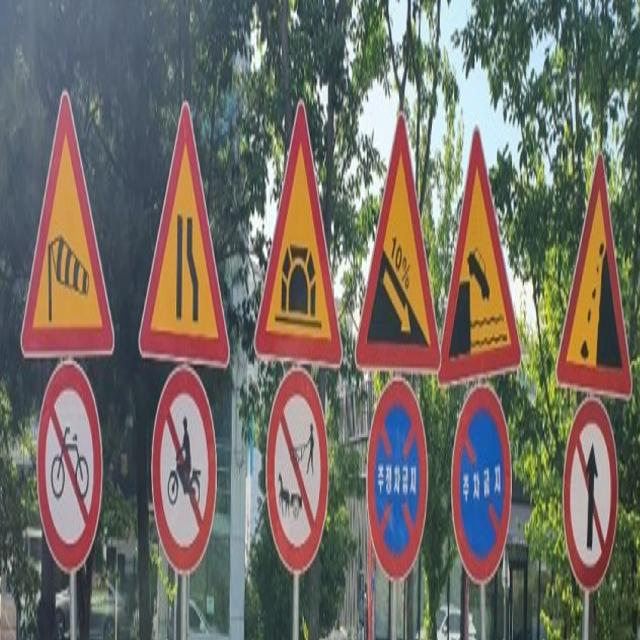Downward_slope: (354, 104, 442, 386)
Falling_rocks: (550, 126, 636, 405)
Right_lane_is_merged: (134, 94, 237, 385)
Riverside_drive: (436, 120, 531, 391)
Tunnel: (245, 89, 346, 382)
Wind: (13, 71, 121, 372)
regulatory_No_bicycles_allowed: (32, 350, 106, 577)
regulatory_No_carts_allowed-push_cars_allowed: (258, 355, 336, 583)
regulatory_No_parking: (449, 366, 515, 600)
regulatory_No_stop_or_parking: (364, 374, 434, 586)
regulatory_No_straight_drive: (558, 384, 623, 606)
regulatory_No_two-wheelers-prime_movers-bicycles_allowed: (147, 364, 224, 582)
